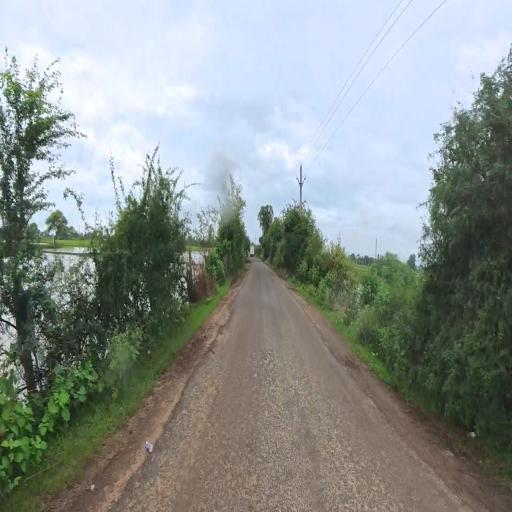ravelling: (210, 356, 340, 512)
